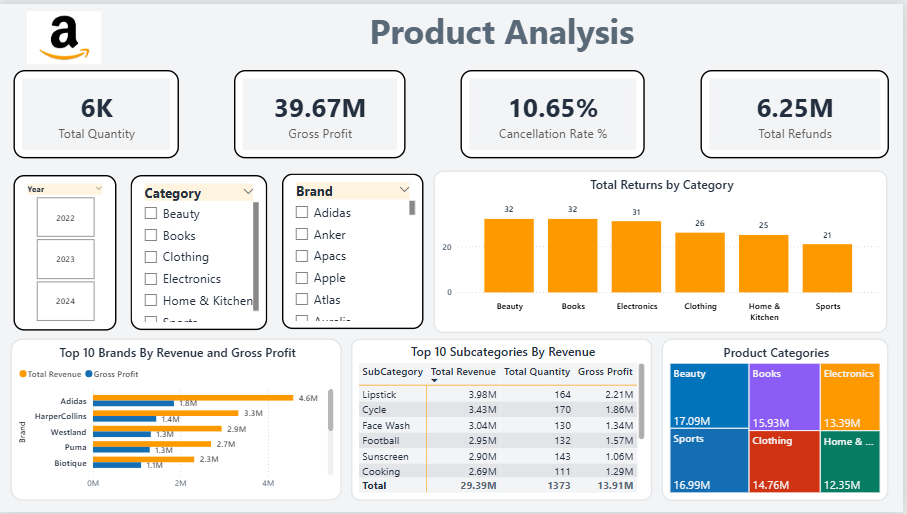

What the dashboard file says about the page in this screenshot:
{"tool":"powerbi","page":{"name":"Product Dashboard","canvas":[1280,720],"ordinal":1},"visuals":[{"type":"cardVisual","fields":{"Data":["measure table.Total Quantity"]},"box":[18.2,93.2,234.9,125.6],"z":0},{"type":"cardVisual","fields":{"Data":["measure table.Cancellation Rate %"]},"box":[652.8,93.2,261.3,125.6],"z":1000},{"type":"cardVisual","fields":{"Data":["measure table.Total Refunds"]},"box":[992.4,93.2,267.3,125.6],"z":2000},{"type":"cardVisual","fields":{"Data":["measure table.Gross Profit"]},"box":[331.5,93.2,243,125.6],"z":3000},{"type":"treemap","title":"Product Categories","fields":{"Group":["Products.Category"],"Values":["measure table.Total Revenue"]},"box":[937.7,473.9,322,230.9],"z":4000},{"type":"tableEx","fields":{"Values":["Products.Category","measure table.Total Revenue","measure table.Total Quantity","measure table.Gross Profit"]},"box":[516.5,473.9,407.1,230.9],"z":5000},{"type":"lineClusteredColumnComboChart","title":"Total Returns by Category ","fields":{"Category":["Products.Category"],"Y":["measure table.Total Returns"],"Series":["Returns.ReturnReason"]},"box":[615.7,237,644.1,230.9],"z":6000},{"type":"clusteredBarChart","fields":{"Category":["Products.Brand"],"Y":["measure table.Total Revenue"]},"box":[18.2,473.9,484.1,230.9],"z":7000},{"type":"slicer","fields":{"Values":["Products.Category"]},"box":[184.3,241,194.4,220.8],"z":8000},{"type":"slicer","fields":{"Values":["Products.Brand"]},"box":[401,241,200.5,220.8],"z":9000},{"type":"slicer","fields":{"Values":["DateTable.Year"]},"box":[18.2,243,145.8,220.8],"z":10000},{"type":"textbox","box":[164.1,0,1095.7,93.2],"z":11000},{"type":"image","box":[38.5,2,105.3,91.1],"z":12000}]}

Visuals, with their boxes in screenshot pixels (x1, y1, x2, y2), scaled from the page's 1280x720 canvas onto the 907x514 screenshot:
cardVisual - measure table.Total Quantity: bbox(13, 67, 179, 156)
cardVisual - measure table.Cancellation Rate %: bbox(463, 67, 648, 156)
cardVisual - measure table.Total Refunds: bbox(703, 67, 893, 156)
cardVisual - measure table.Gross Profit: bbox(235, 67, 407, 156)
"Product Categories" treemap: bbox(664, 338, 893, 503)
tableEx - Products.Category x measure table.Total Revenue: bbox(366, 338, 654, 503)
"Total Returns by Category " lineClusteredColumnComboChart: bbox(436, 169, 893, 334)
clusteredBarChart - Products.Brand x measure table.Total Revenue: bbox(13, 338, 356, 503)
slicer - Products.Category: bbox(131, 172, 268, 330)
slicer - Products.Brand: bbox(284, 172, 426, 330)
slicer - DateTable.Year: bbox(13, 173, 116, 331)
textbox: bbox(116, 0, 893, 67)
image: bbox(27, 1, 102, 66)
